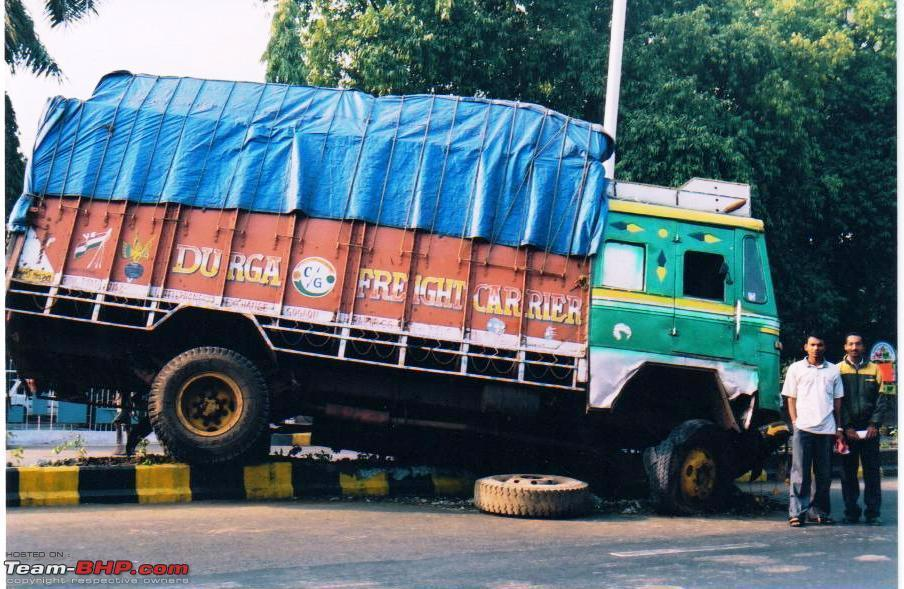truck: (28, 71, 733, 478)
